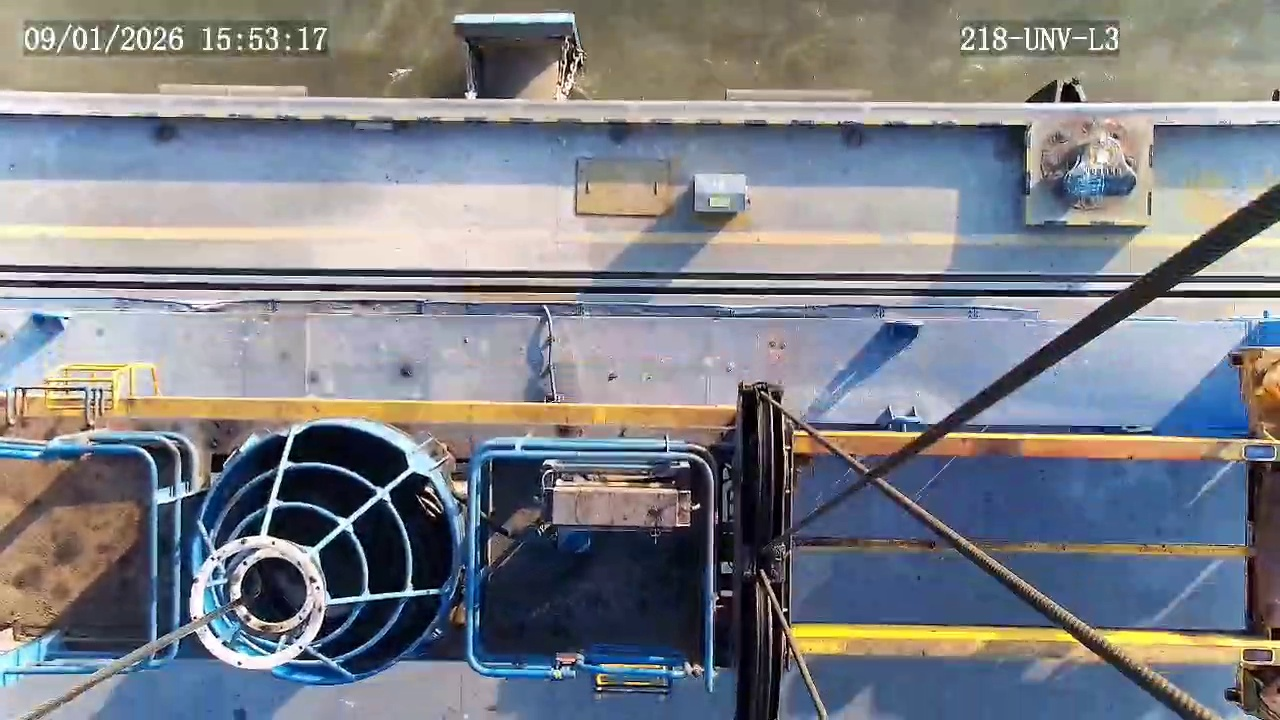right: (194, 425, 460, 687)
